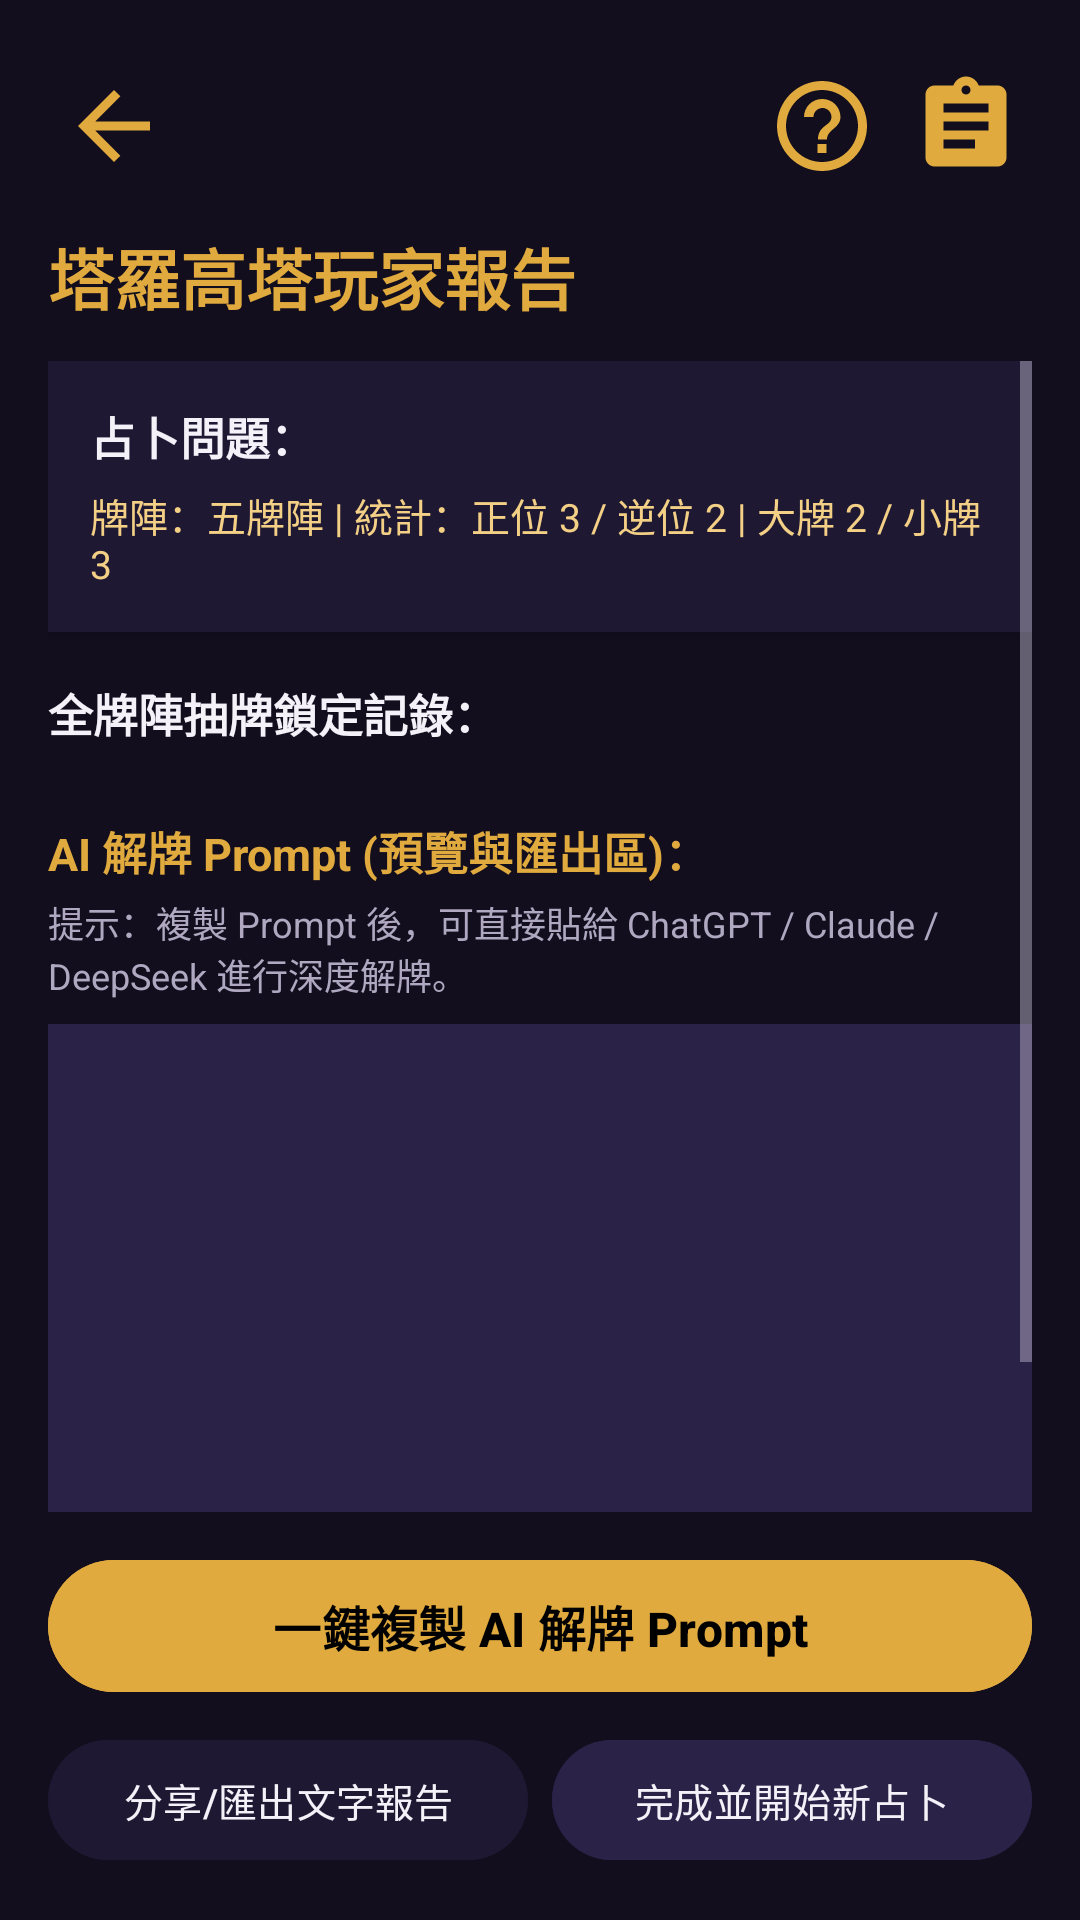

Named icons in this screenshot (1080x1920) and their bounding boxes, {"left": x1, "top": y1, "right": x2, "bottom": y2}:
使用說明: {"left": 777, "top": 81, "right": 867, "bottom": 171}
歷史記事本: {"left": 925, "top": 76, "right": 1007, "bottom": 167}
返回上一頁: {"left": 78, "top": 90, "right": 150, "bottom": 162}
